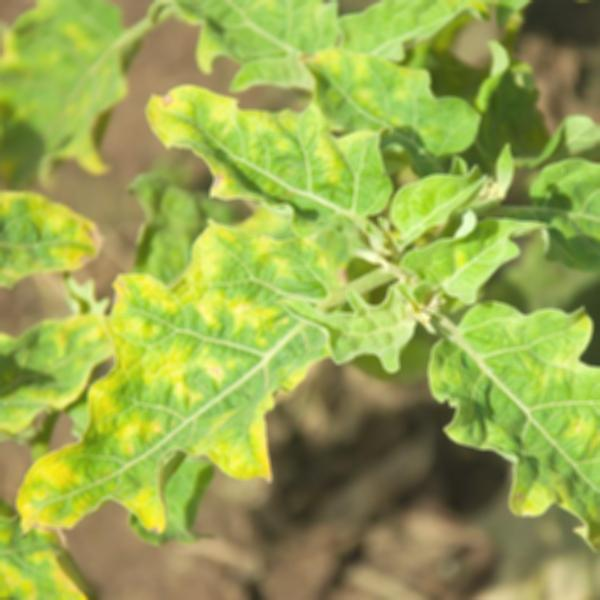Tomato leaf mosaic virus: (12, 223, 354, 533), (135, 79, 405, 235), (436, 278, 594, 537), (409, 205, 539, 310), (278, 283, 424, 363)
